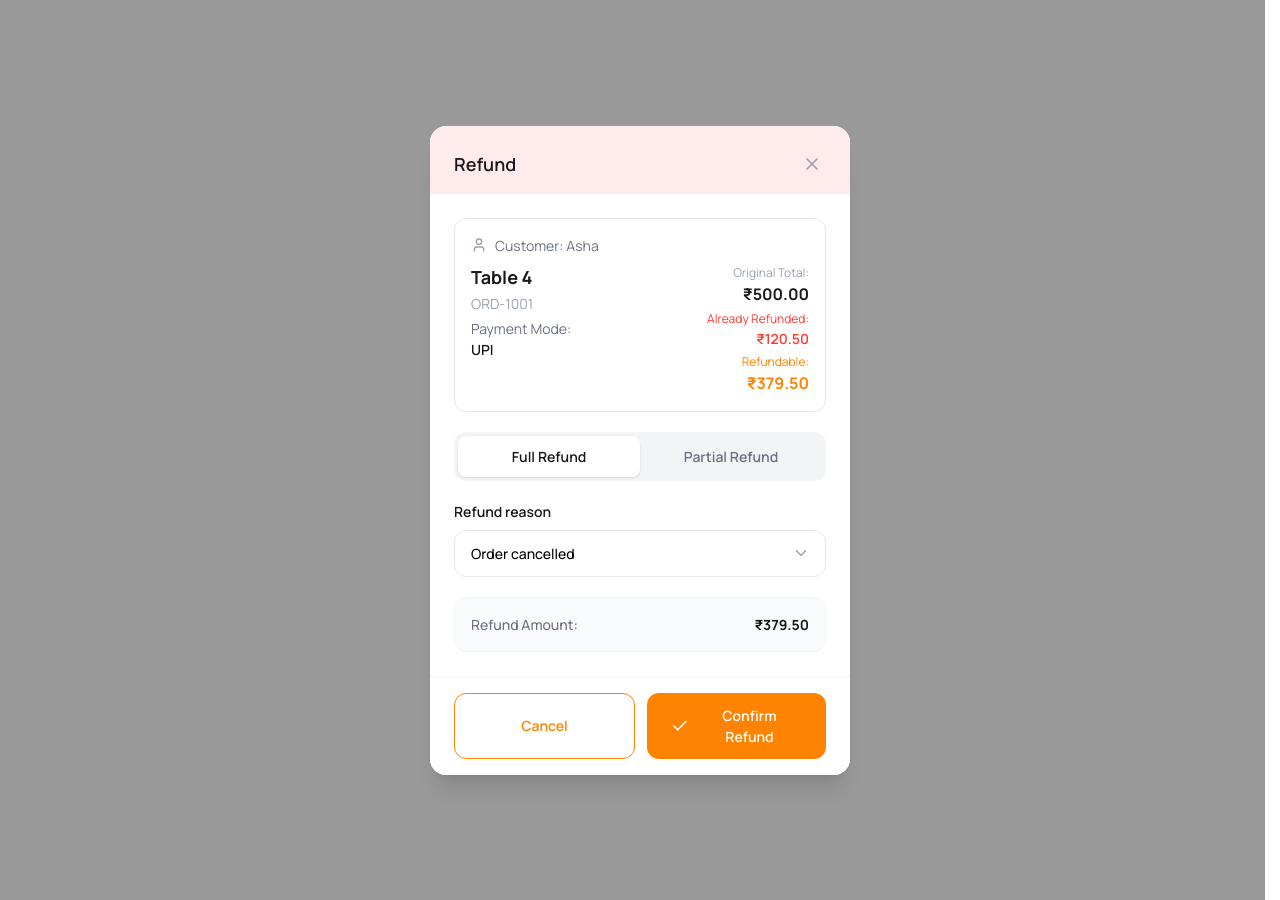
Test: RefundModal — partial refund amount bounds › empty partial amount keeps confirm disabled; switching back to full clears the error
Click the button "Partial Refund": (731, 456) x1=640 y1=436 x2=822 y2=476
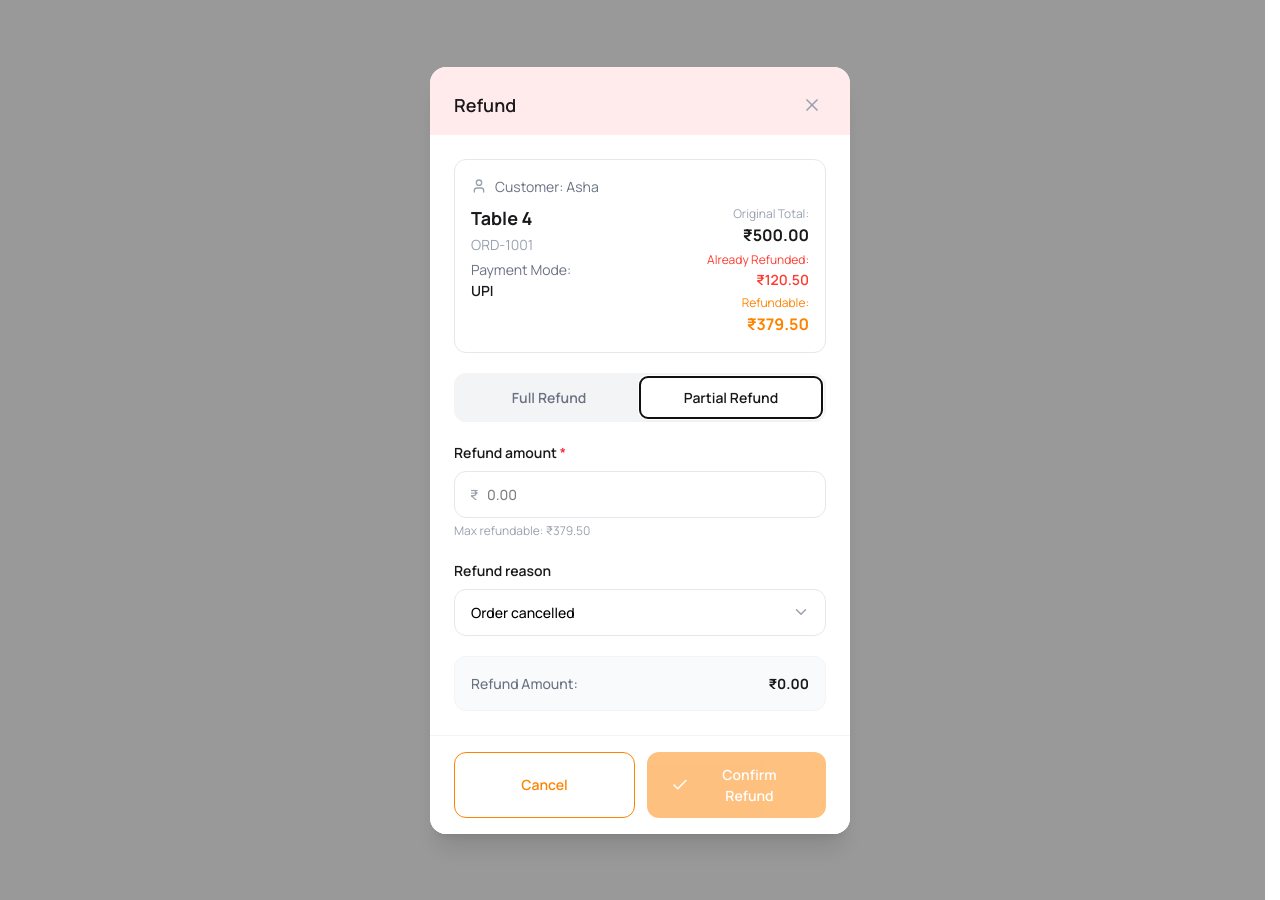
Check: the button "Confirm Refund" is disabled, box x1=647 y1=752 x2=826 y2=818
In the field labelled "Refund amount *": (640, 494) x1=454 y1=470 x2=826 y2=518, type "9999"
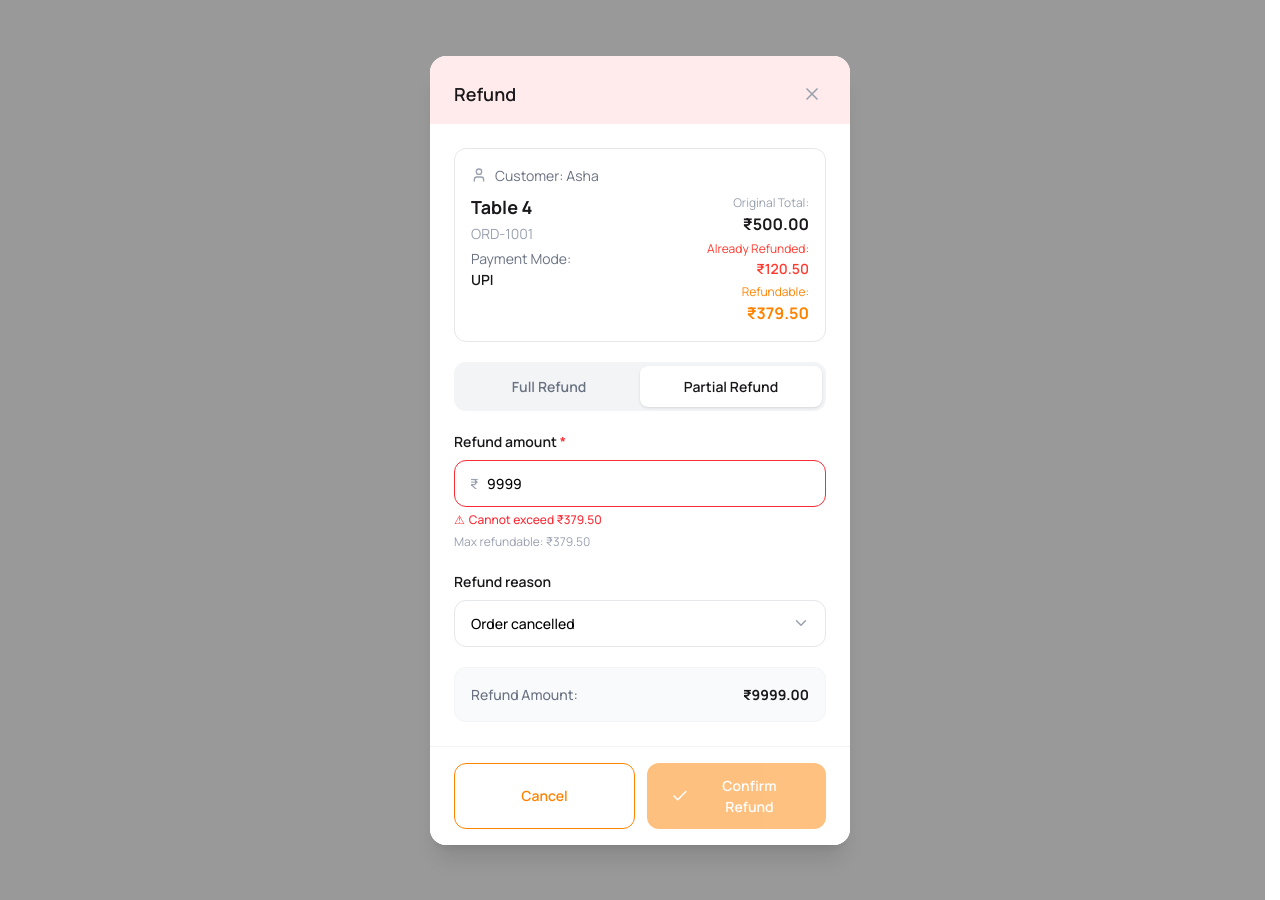
Check: the message "⚠ Cannot exceed ₹379.50" is shown, box x1=454 y1=510 x2=602 y2=528
Click the button "Full Refund": (549, 386) x1=458 y1=366 x2=640 y2=406
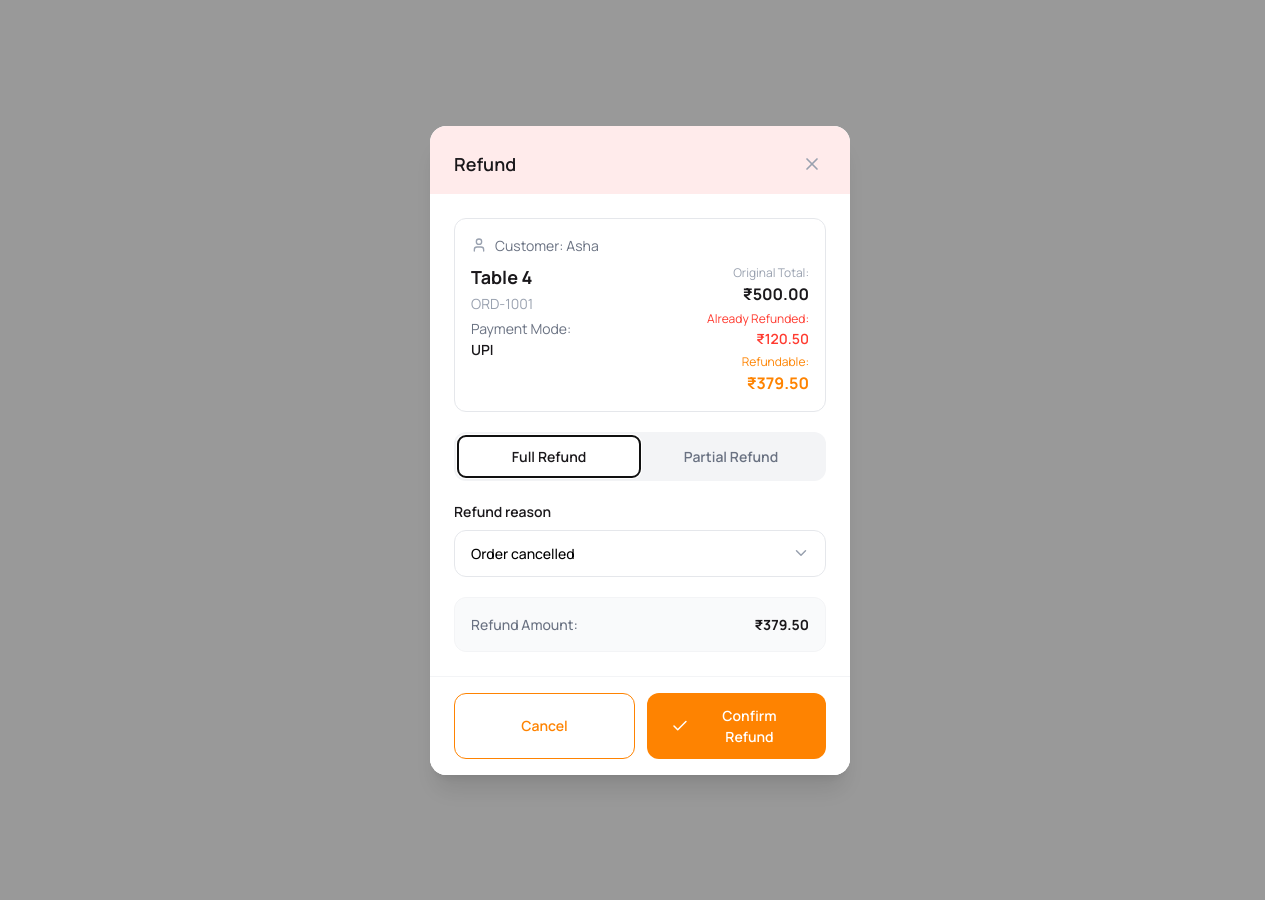
Check: the message "⚠ Cannot exceed ₹379.50" is gone
Check: the button "Confirm Refund" is enabled, box x1=647 y1=692 x2=826 y2=758
